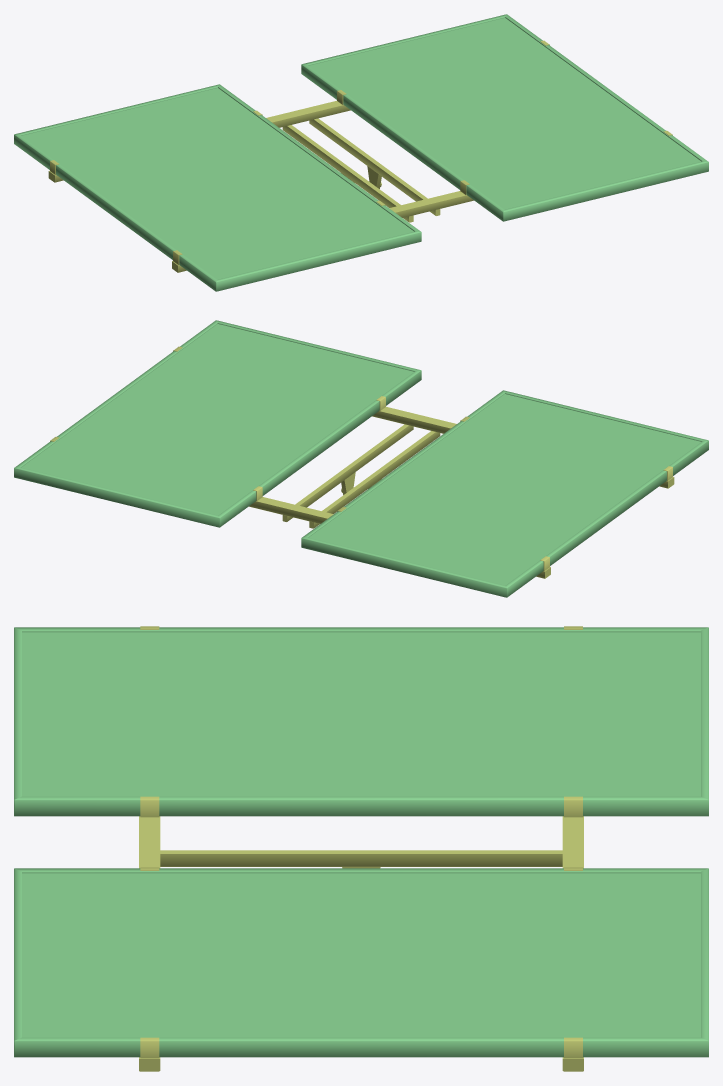
File: Panel_1_Top.fbx
3 renders of one model, top to bottom at view 1: azimuth 30°, elevation 25°; view 2: azimuth 150°, elevation 25°; view 3: azimuth 270°, elevation 25°, orthographic. The views are drawn at different scales.
Visible parts, largest first — view 1: Panel_1_Top_LOD0; view 2: Panel_1_Top_LOD0; view 3: Panel_1_Top_LOD0.
Boxes of the visible parts, x1,y1,x2,y2 form: Panel_1_Top_LOD0: (14,14,708,291); Panel_1_Top_LOD0: (14,320,708,597); Panel_1_Top_LOD0: (14,626,708,1071).
Size of what is drawn, in the model's own units: 2.41 by 0.2133 by 1.7.
